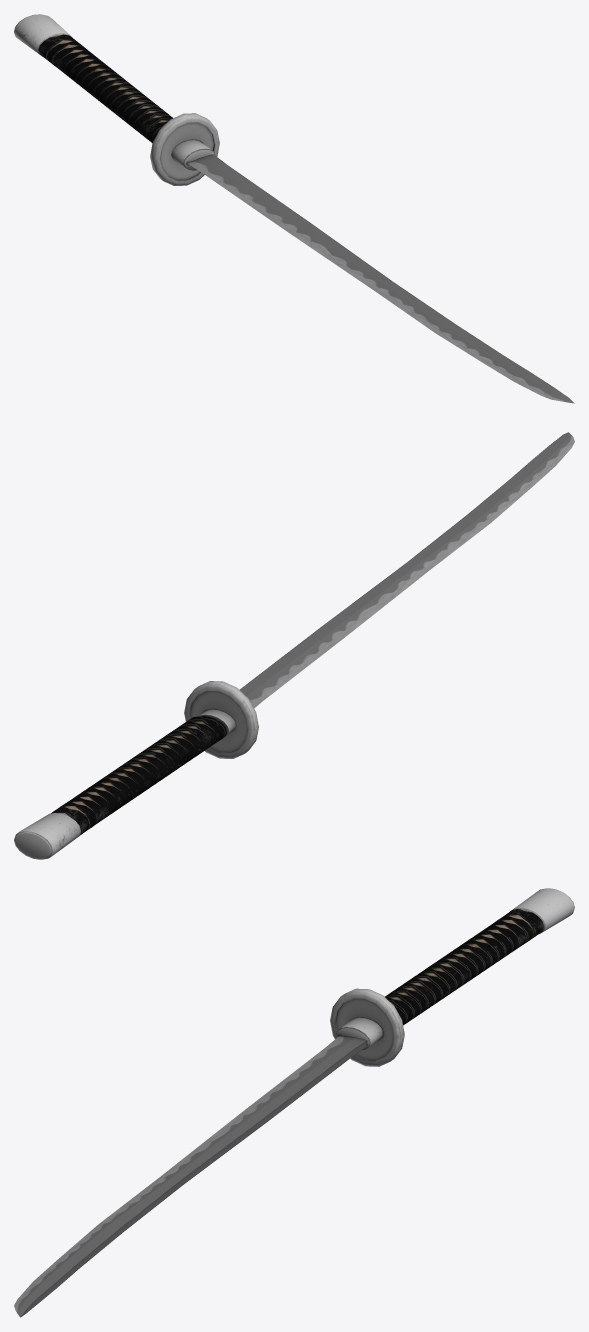
The model's file is katana.glb.
3 views of the same model, one above another, from view 1: azimuth 30°, elevation 25°; view 2: azimuth 150°, elevation 25°; view 3: azimuth 330°, elevation 25° (orthographic). The views are drawn at different scales.
Visible parts, largest first — view 1: Katana; view 2: Katana; view 3: Katana.
Boxes of the visible parts, x1,y1,x2,y2 form: Katana: [14, 14, 574, 403]; Katana: [14, 432, 574, 859]; Katana: [14, 888, 574, 1317].
Size of the model in its own units: 0.0341 by 0.034 by 0.4639.
1 material, 1 textured.
